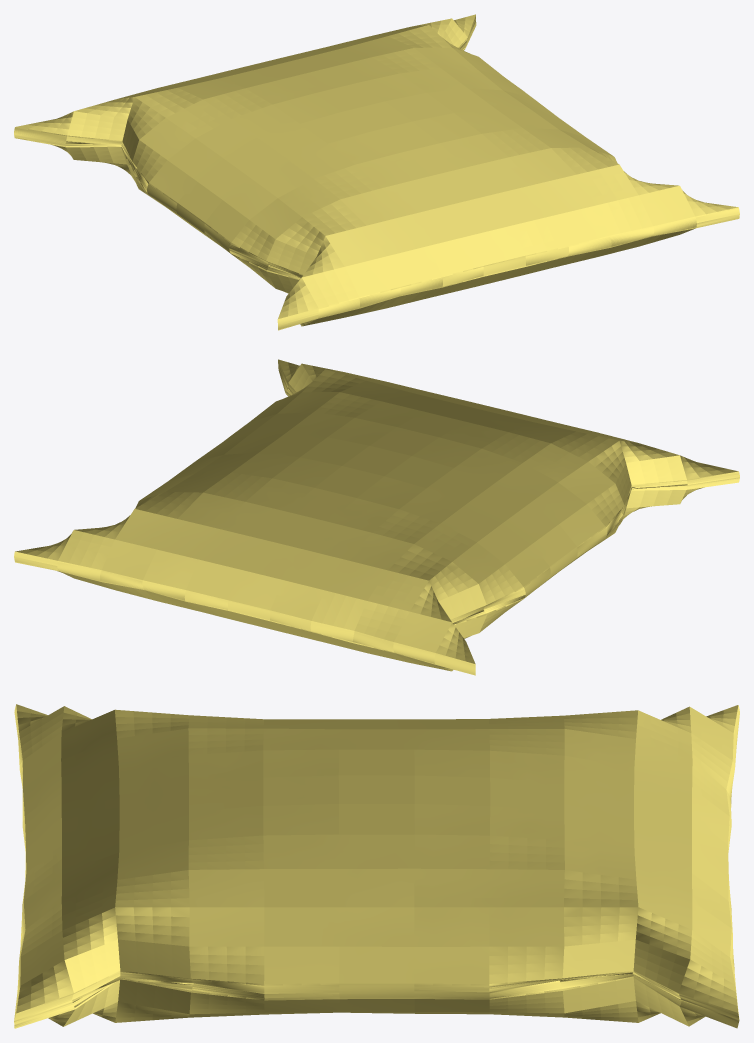
File: Pillow 13.fbx
The picture shows the model from 3 angles, top to bottom: view 1: azimuth 30°, elevation 25°; view 2: azimuth 150°, elevation 25°; view 3: azimuth 270°, elevation 25°; orthographic projection. The views are drawn at different scales.
Parts seen in each view (by area): view 1: Node 0; view 2: Node 0; view 3: Node 0.
Part boxes in pixels (x1,y1,x2,y2): Node 0: [14, 14, 739, 330]; Node 0: [14, 359, 739, 675]; Node 0: [14, 704, 739, 1028].
Size of the model in its own units: 0.6965 by 0.1615 by 0.6905.
